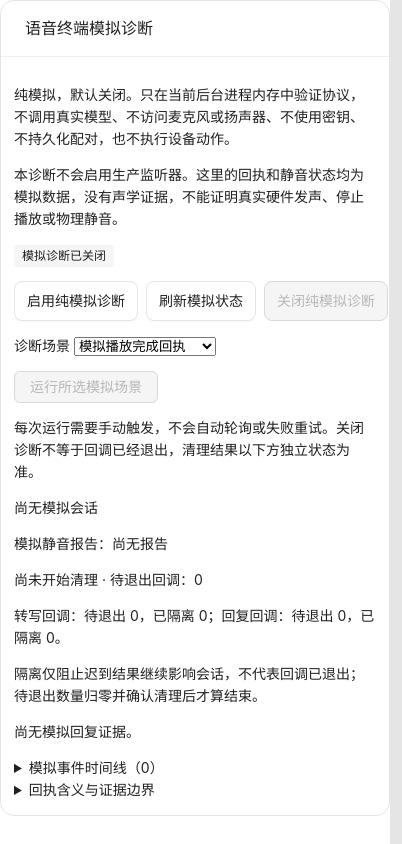
memory-only terminal diagnostics › only reads initially, requires explicit enable and states the simulation boundaries
Check: the text "模拟诊断已关闭" is shown, box [14, 245, 114, 267]
Check: the button "运行所选模拟场景" is disabled, box [14, 371, 158, 403]
Click the button "启用纯模拟诊断". click: (76, 301)
box: [14, 281, 138, 321]
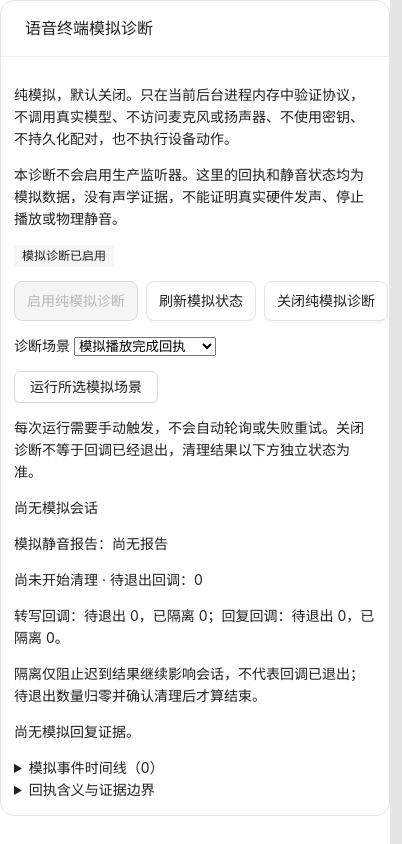
Check: the text "模拟诊断已启用" is shown, box [14, 245, 114, 267]
Check: the button "运行所选模拟场景" is enabled, box [14, 371, 158, 403]
Check: the button "启用纯模拟诊断" is disabled, box [14, 281, 138, 321]
